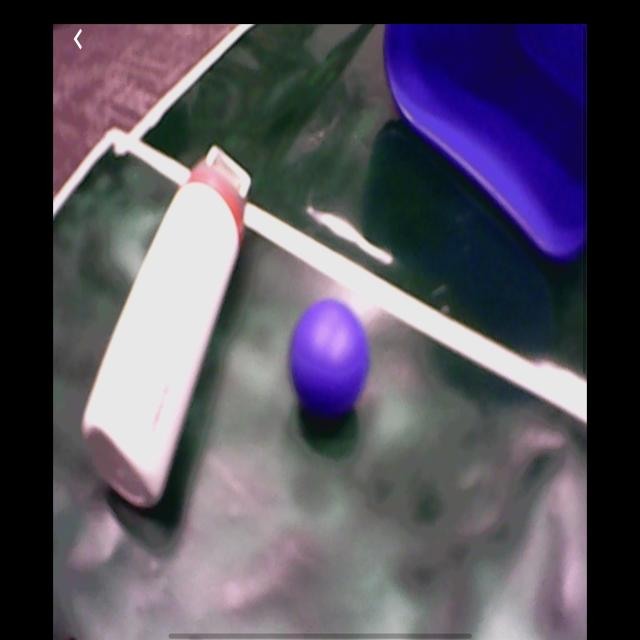ball: (290, 301, 369, 427)
